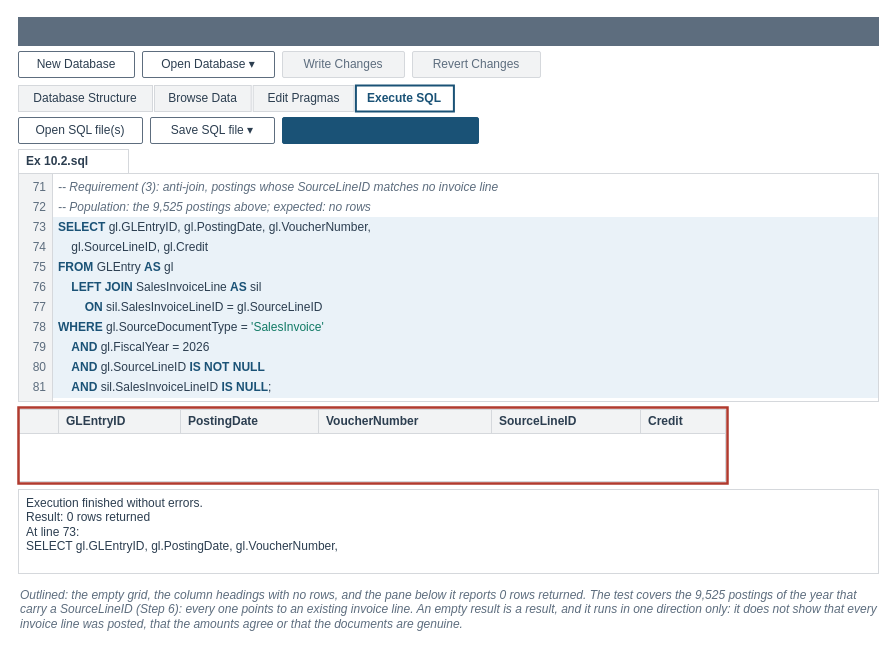
The diagram is 896 pixels wide and 658 high, and some of its shapes have lost their labels. Here are the shapes that lost their labels. From the top down, the centre of each, then its label:
At [448,31]: "DB Browser for SQLite - C:\Users\you\Documents\CharlesRiver_Work.sqlite".
At [380,130]: "▶ Execute all/selected SQL".
